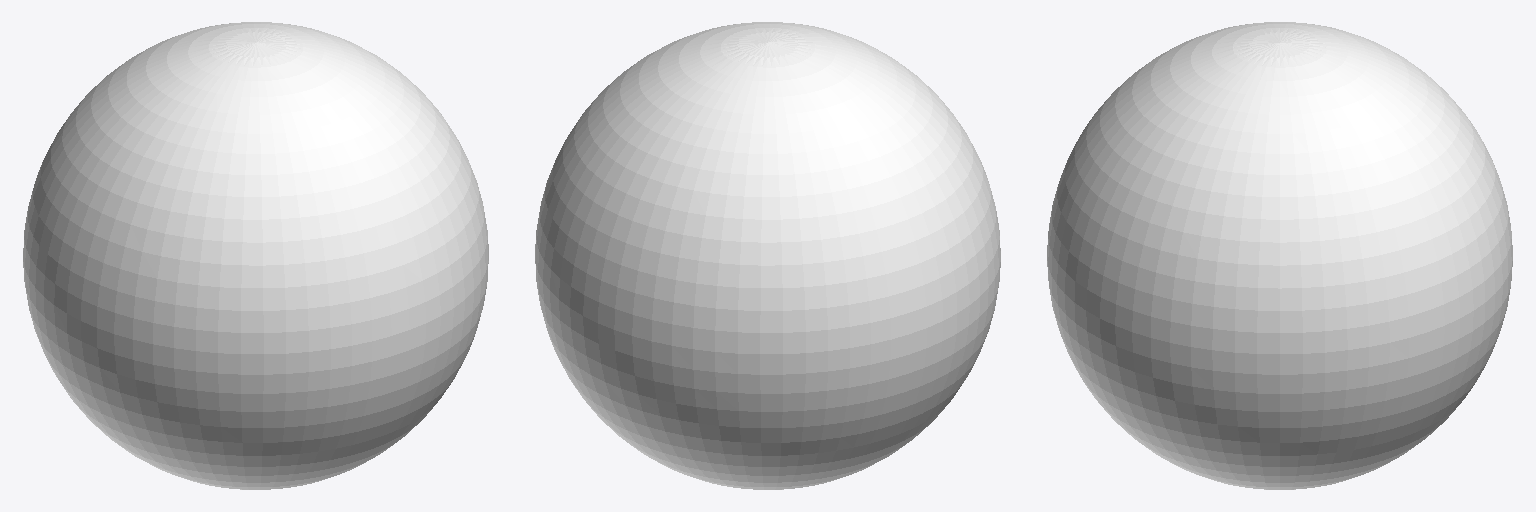
The model's file is whiteball.obj.
3 views of the same model, side by side, from view 1: azimuth 30°, elevation 25°; view 2: azimuth 150°, elevation 25°; view 3: azimuth 270°, elevation 25° (orthographic).
Parts seen in each view (by area): view 1: Sphere.001_Sphere.007; view 2: Sphere.001_Sphere.007; view 3: Sphere.001_Sphere.007.
Boxes of the visible parts, x1=… form: Sphere.001_Sphere.007: x1=23, y1=22, x2=488, y2=489; Sphere.001_Sphere.007: x1=535, y1=22, x2=1000, y2=489; Sphere.001_Sphere.007: x1=1047, y1=22, x2=1512, y2=489.
Size of the model in its own units: 0.1086 by 0.1097 by 0.1086.